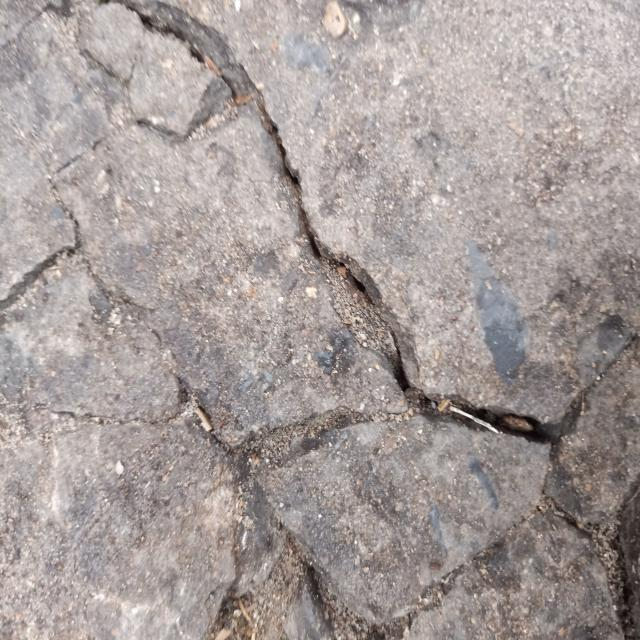curved crack: (123, 1, 637, 446)
